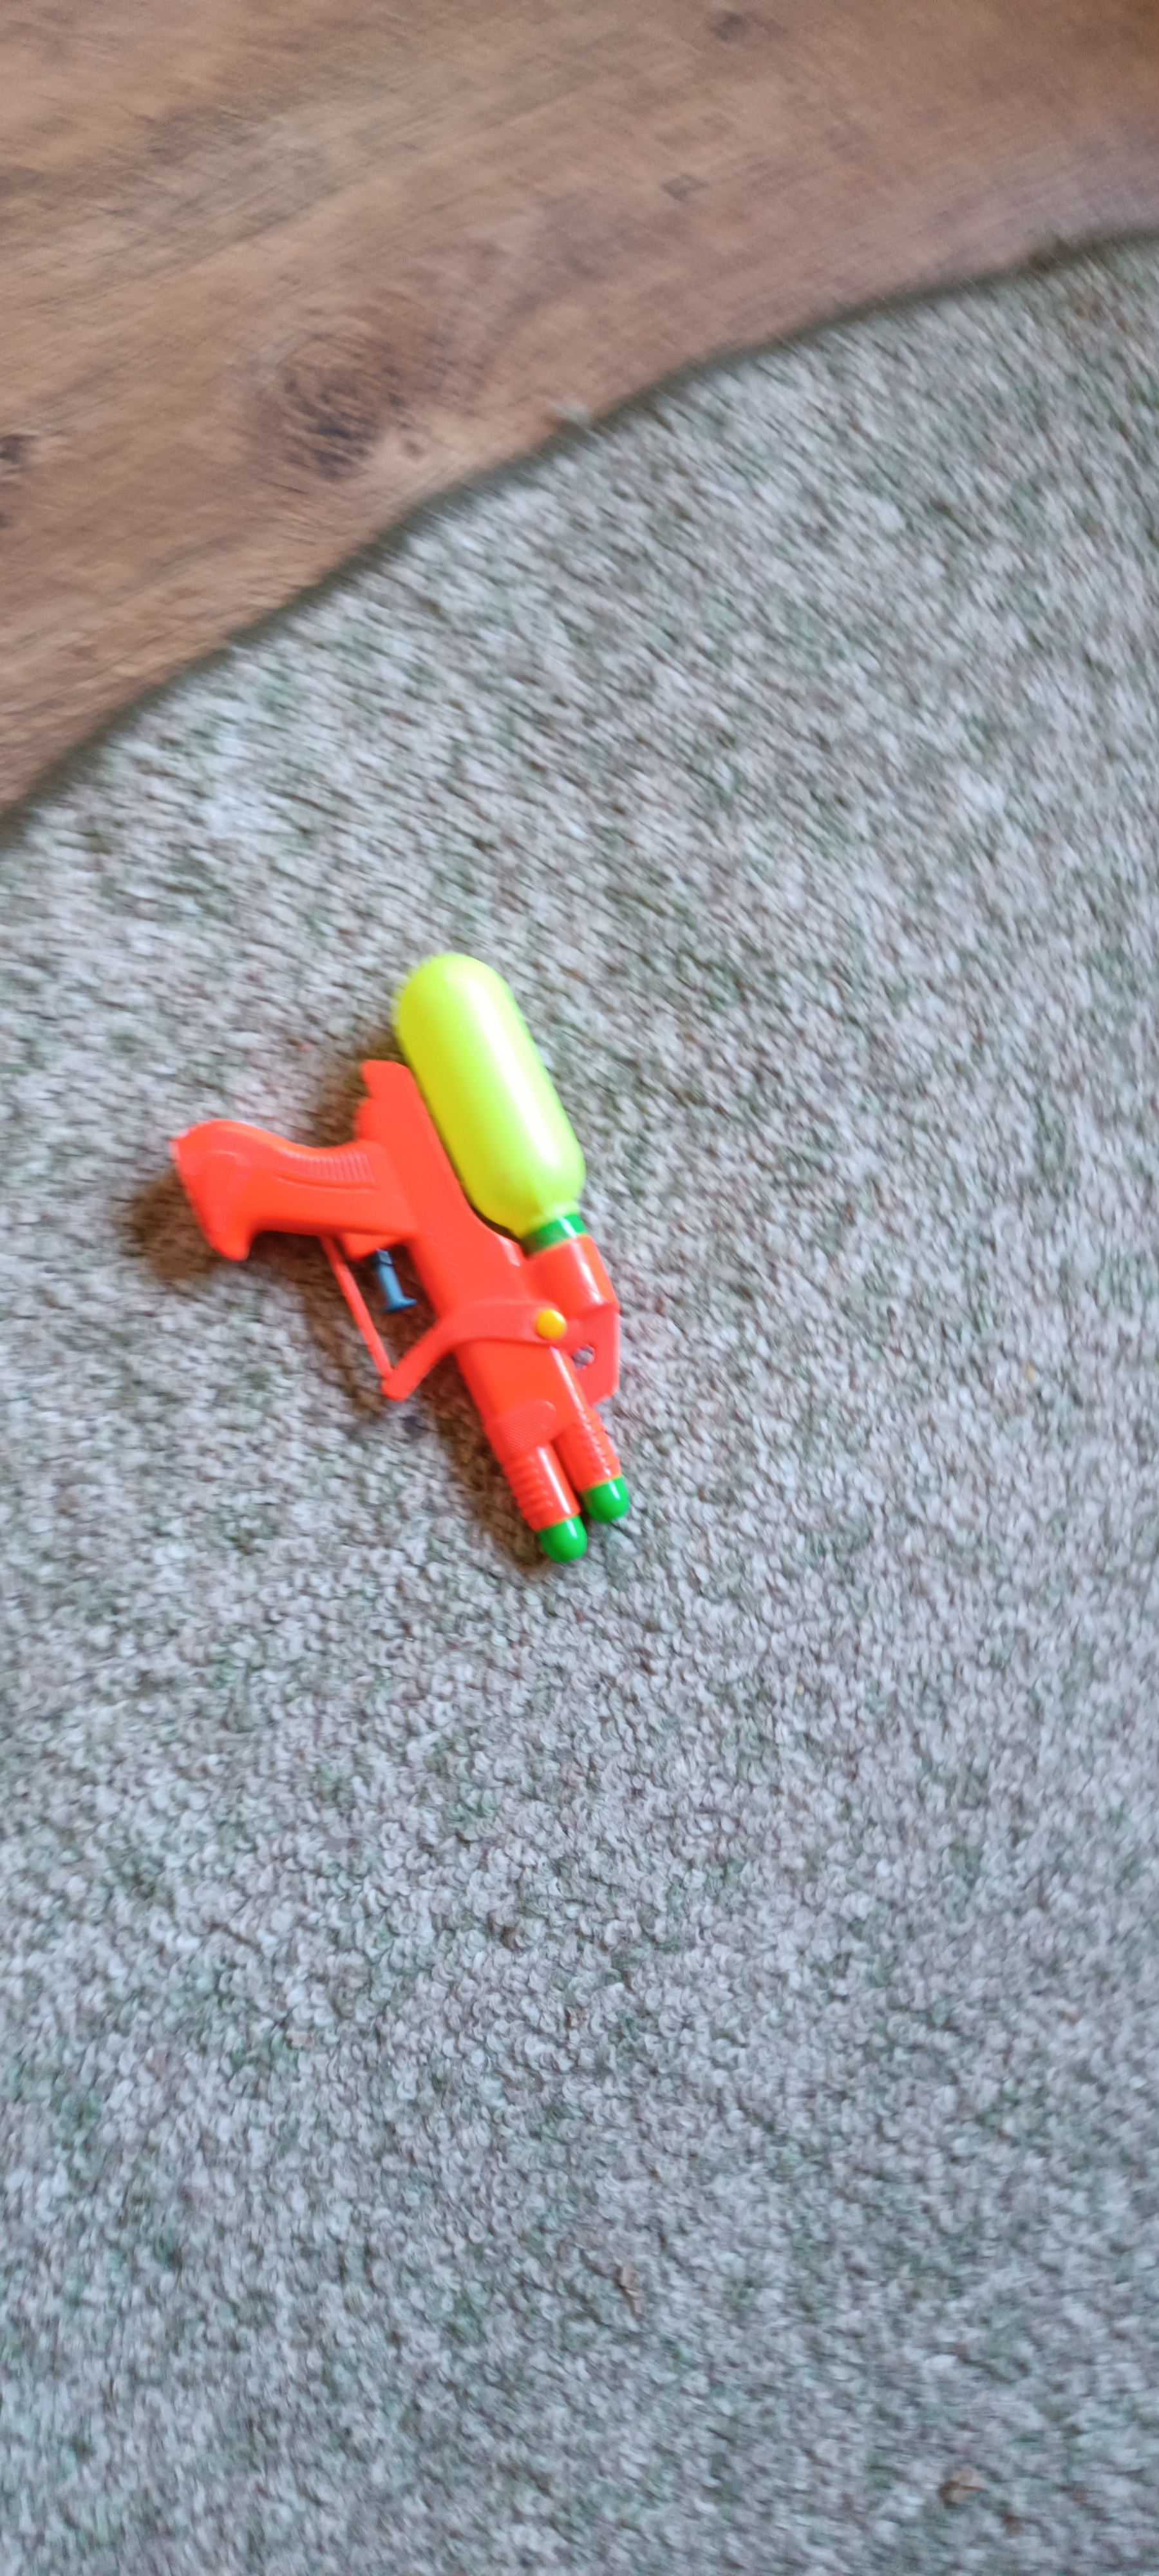Water Gun: (172, 954, 630, 1561)
